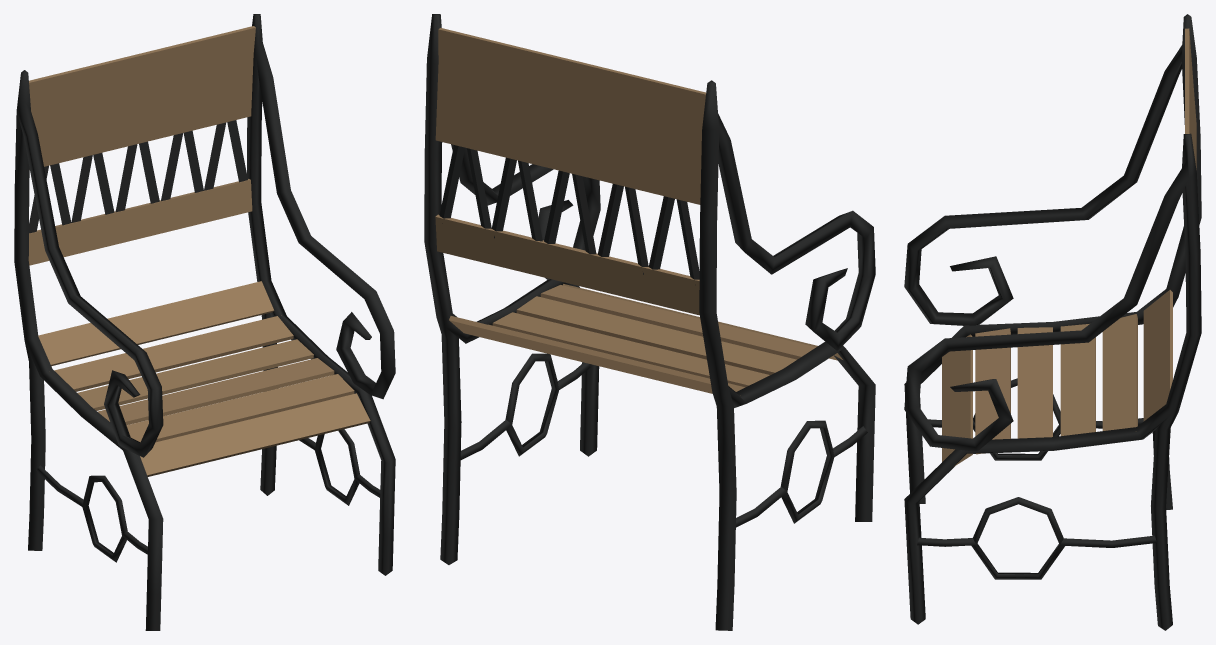
File: chair_01.fbx
3 views of the same model, side by side, from view 1: azimuth 30°, elevation 25°; view 2: azimuth 150°, elevation 25°; view 3: azimuth 270°, elevation 25° (orthographic). The views are drawn at different scales.
Parts seen in each view (by area): view 1: chair_01; view 2: chair_01; view 3: chair_01.
Part boxes in pixels (bbox=[...]): chair_01: bbox=[14, 14, 395, 630]; chair_01: bbox=[424, 14, 875, 630]; chair_01: bbox=[904, 14, 1201, 630].
Bounding box in the file's own units: 72.1 × 131 × 71.7.
